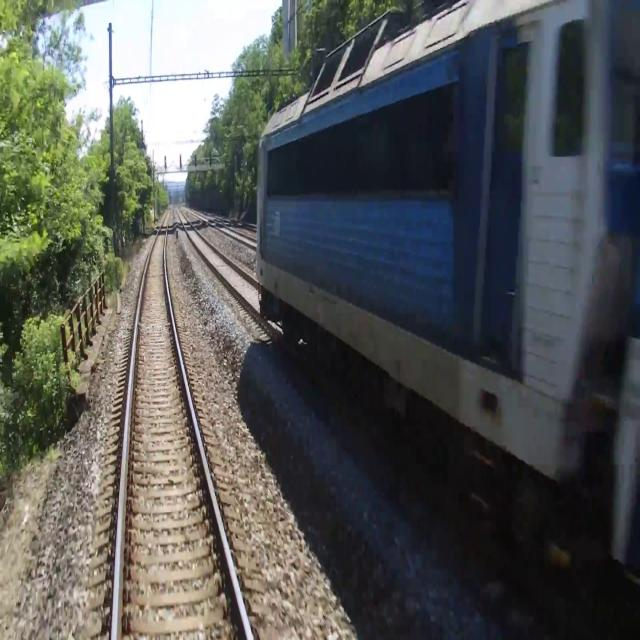rail-track: (116, 208, 249, 639), (175, 204, 259, 311), (181, 204, 255, 246), (199, 208, 255, 229)
